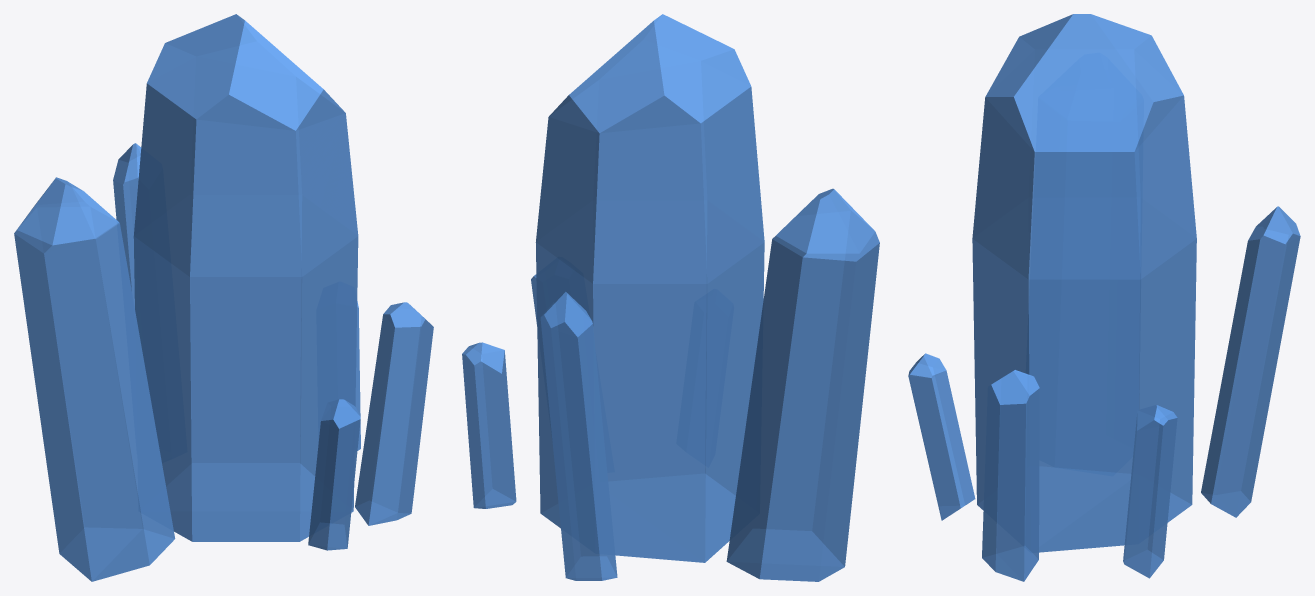
Rendered from Crystals_l_02.fbx.
The picture shows the model from 3 angles, left to right: view 1: azimuth 30°, elevation 25°; view 2: azimuth 150°, elevation 25°; view 3: azimuth 270°, elevation 25°; orthographic projection.
Parts seen in each view (by area): view 1: Crystals_l_02; view 2: Crystals_l_02; view 3: Crystals_l_02.
Boxes of the visible parts, bbox=[...] form: Crystals_l_02: bbox=[14, 14, 433, 581]; Crystals_l_02: bbox=[462, 14, 879, 581]; Crystals_l_02: bbox=[908, 14, 1300, 581].
Bounding box in the file's own units: 3 × 4.03 × 2.8.
